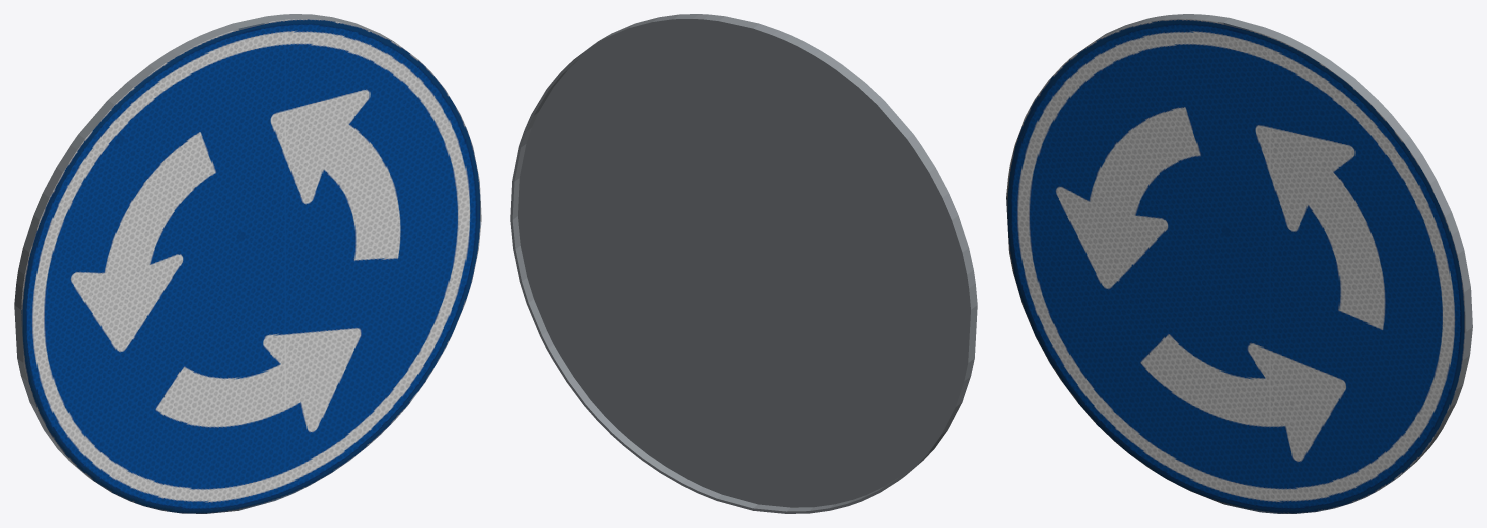
3 views of the same model, side by side, from view 1: azimuth 30°, elevation 25°; view 2: azimuth 150°, elevation 25°; view 3: azimuth 330°, elevation 25° (orthographic).
Parts seen in each view (by area): view 1: cat_f0308c283f83182f; view 2: cat_f0308c283f83182f; view 3: cat_f0308c283f83182f.
Part boxes in pixels (bbox=[...]): cat_f0308c283f83182f: bbox=[14, 14, 481, 513]; cat_f0308c283f83182f: bbox=[510, 14, 977, 513]; cat_f0308c283f83182f: bbox=[1006, 14, 1472, 513].
Bounding box in the file's own units: 0.6 × 0.015 × 0.6.
2 materials, 1 textured.
